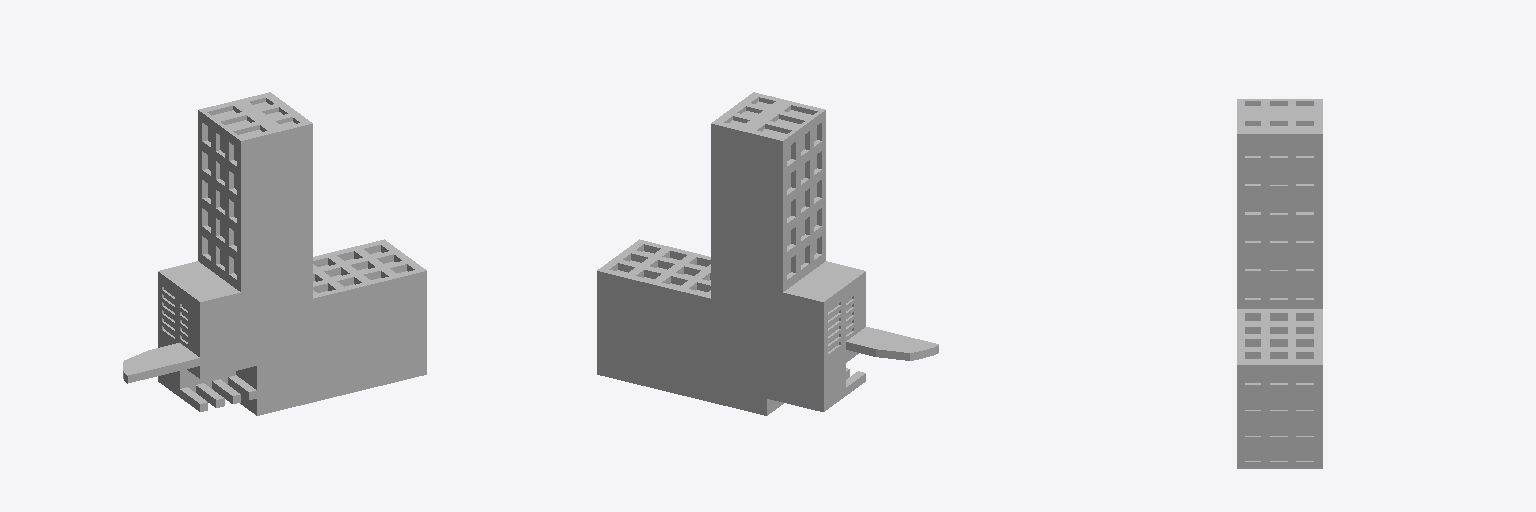
File: Lasy Państwowe.obj
The picture shows the model from 3 angles: view 1: azimuth 30°, elevation 25°; view 2: azimuth 150°, elevation 25°; view 3: azimuth 270°, elevation 25°; orthographic projection.
Parts seen in each view (by area): view 1: Lasy_Państwowe_Cube.001; view 2: Lasy_Państwowe_Cube.001; view 3: Lasy_Państwowe_Cube.001.
Part boxes in pixels (x1,y1,x2,y2): Lasy_Państwowe_Cube.001: (123,92,426,415); Lasy_Państwowe_Cube.001: (597,92,938,415); Lasy_Państwowe_Cube.001: (1237,99,1322,468).
Size of the model in its own units: 0.051 by 0.0453 by 0.0126.